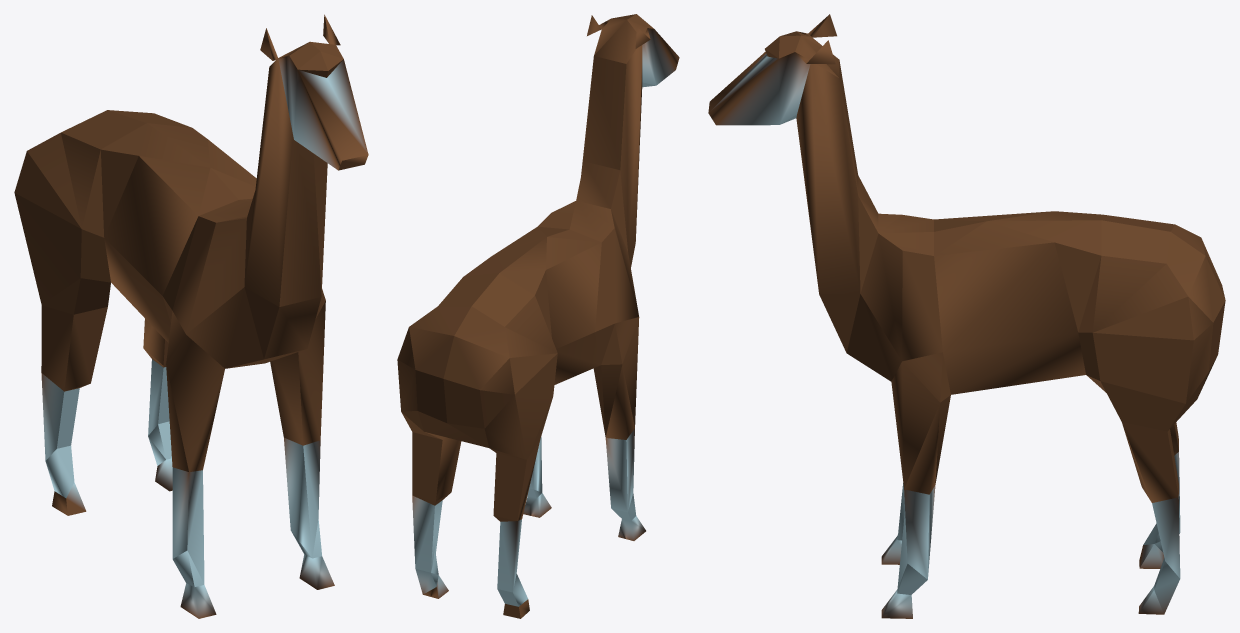
File: cc0-llama-lod1.glb
3 renders of one model, left to right at view 1: azimuth 30°, elevation 25°; view 2: azimuth 150°, elevation 25°; view 3: azimuth 270°, elevation 25°, orthographic. The views are drawn at different scales.
Visible parts, largest first — view 1: part_0; view 2: part_0; view 3: part_0.
Part boxes in pixels (left/top/right/bottom): part_0: left=14, top=14, right=368, bottom=618; part_0: left=397, top=14, right=679, bottom=618; part_0: left=708, top=14, right=1225, bottom=618.
Bounding box in the file's own units: 1.57 × 5.86 × 4.89.
